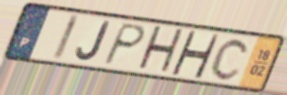C: (209, 37, 252, 83)
H: (135, 23, 187, 77), (169, 29, 222, 80)
I: (50, 13, 82, 62)
J: (74, 20, 112, 63)
P: (100, 21, 149, 67)
